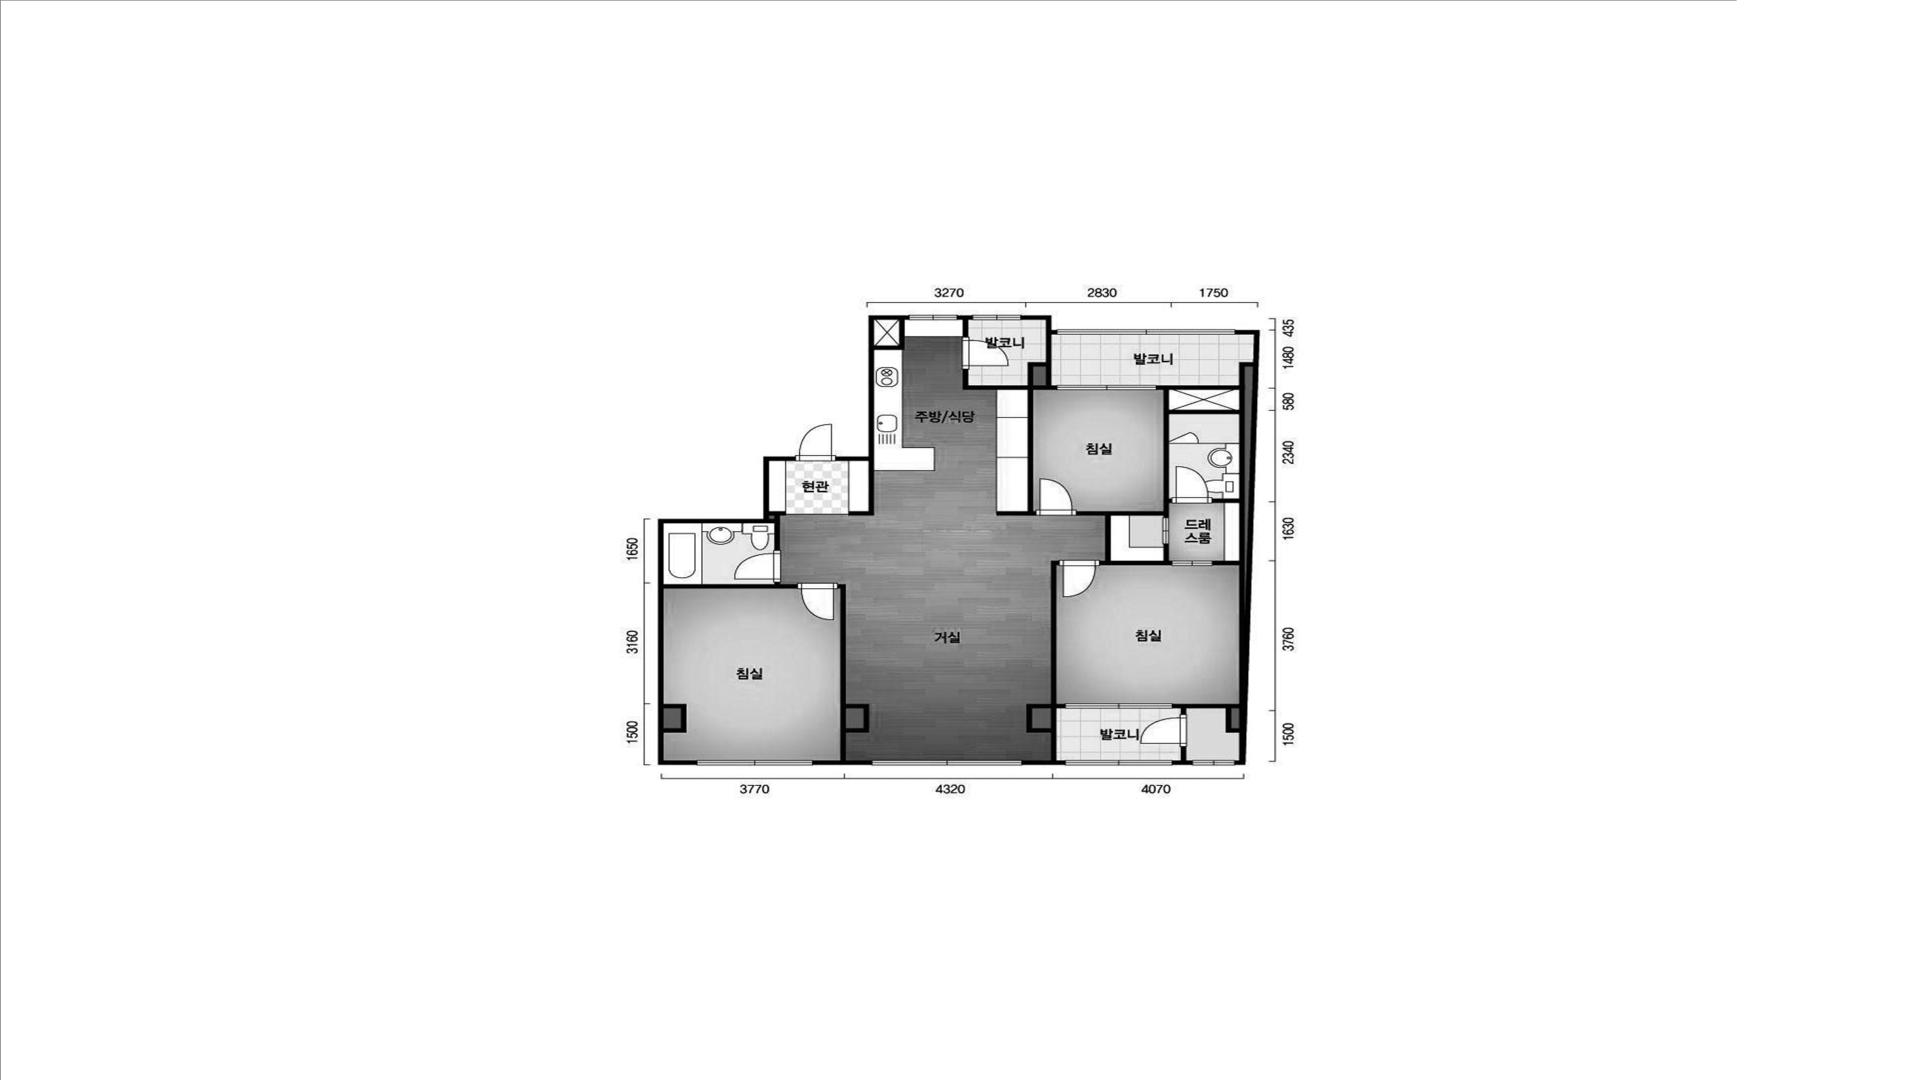background: (3, 1, 1920, 1080)
door: (1171, 465, 1213, 504), (961, 336, 1009, 369), (733, 550, 781, 583), (1139, 715, 1187, 748), (1035, 477, 1076, 516), (1059, 560, 1100, 599), (795, 423, 836, 462), (798, 583, 839, 620)
wall: (658, 456, 795, 765), (1236, 330, 1259, 765), (837, 315, 909, 460), (1026, 560, 1064, 761), (839, 584, 872, 760), (963, 335, 1056, 390), (996, 390, 1035, 516), (1076, 510, 1163, 560), (1174, 704, 1240, 733), (848, 460, 874, 516), (874, 319, 905, 349), (1163, 390, 1170, 517), (1022, 315, 1056, 335), (769, 512, 786, 550), (665, 704, 687, 733), (663, 584, 796, 588), (1100, 560, 1171, 566), (1158, 385, 1240, 389), (814, 760, 870, 765), (1170, 410, 1238, 414), (1022, 761, 1064, 765), (1213, 560, 1238, 566), (1163, 545, 1170, 560), (1213, 498, 1238, 502), (963, 319, 968, 336), (1180, 748, 1187, 761), (963, 369, 968, 385), (1174, 761, 1192, 765), (959, 315, 972, 319), (774, 583, 779, 584), (1170, 498, 1171, 502)
window: (1056, 328, 1236, 335), (872, 760, 1022, 766), (696, 760, 814, 766), (1064, 703, 1174, 709), (1064, 760, 1172, 766), (1056, 385, 1156, 392), (972, 314, 1021, 320), (1171, 560, 1213, 567), (909, 315, 959, 320), (1192, 761, 1236, 766), (1162, 518, 1170, 545)
